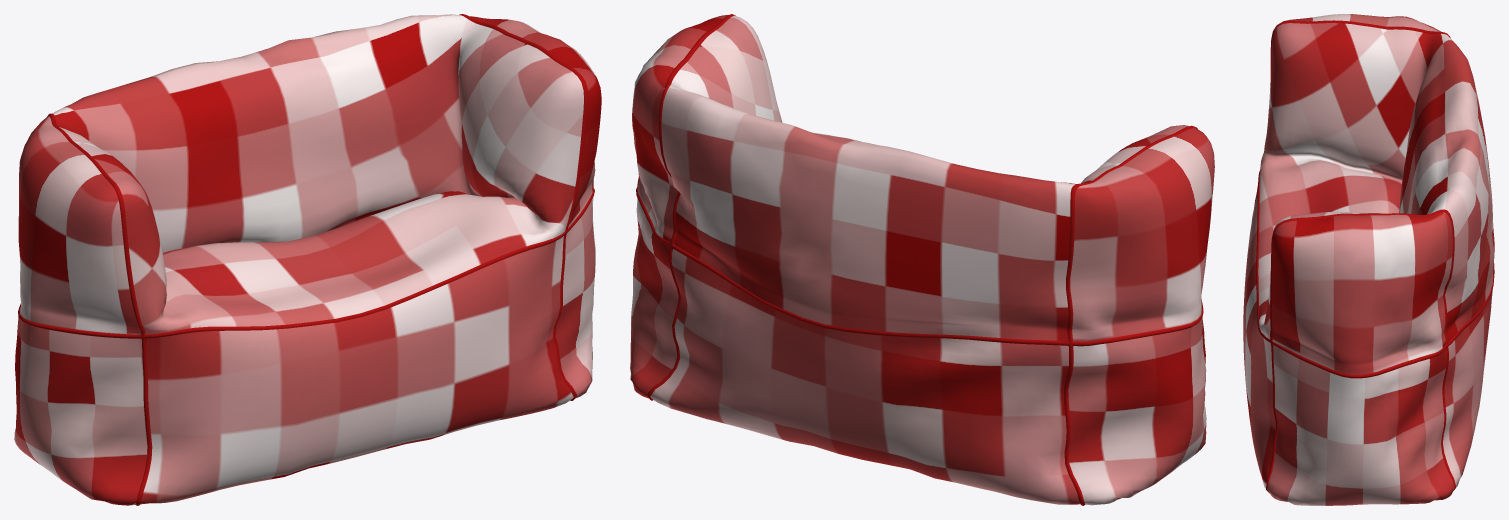
The model's file is bag-chair.obj.
3 views of the same model, side by side, from view 1: azimuth 30°, elevation 25°; view 2: azimuth 150°, elevation 25°; view 3: azimuth 270°, elevation 25° (orthographic). The views are drawn at different scales.
Visible parts, largest first — view 1: bag_chair; view 2: bag_chair; view 3: bag_chair.
Part boxes in pixels (box(x1,y1,x2,y2)): bag_chair: box(14, 14, 601, 505); bag_chair: box(630, 14, 1214, 505); bag_chair: box(1243, 14, 1494, 505).
Bounding box in the file's own units: 11.84 × 6.59 × 5.19.
Materials: 1 (1 with a texture image).
